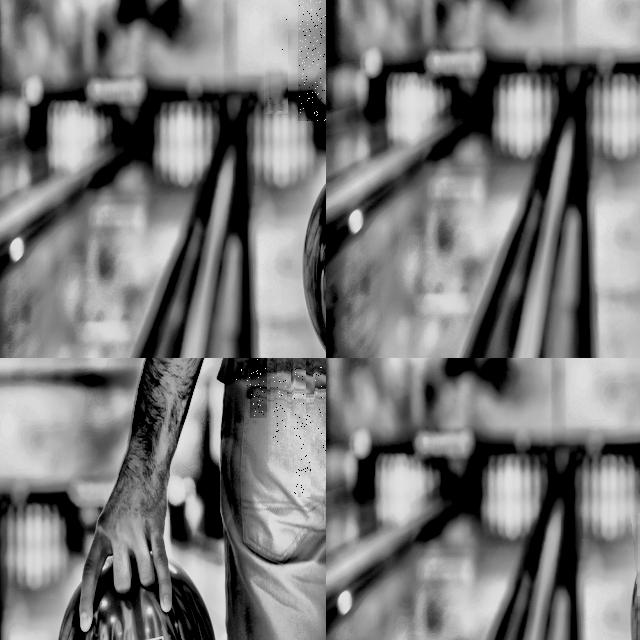bowling-ball: (248, 433, 283, 486)
bowling-pins: (299, 0, 326, 121), (266, 0, 287, 112), (294, 415, 311, 494), (251, 358, 267, 417), (315, 374, 326, 451), (273, 377, 286, 442), (294, 358, 306, 412), (235, 358, 250, 387), (279, 358, 290, 387), (316, 358, 325, 377)
